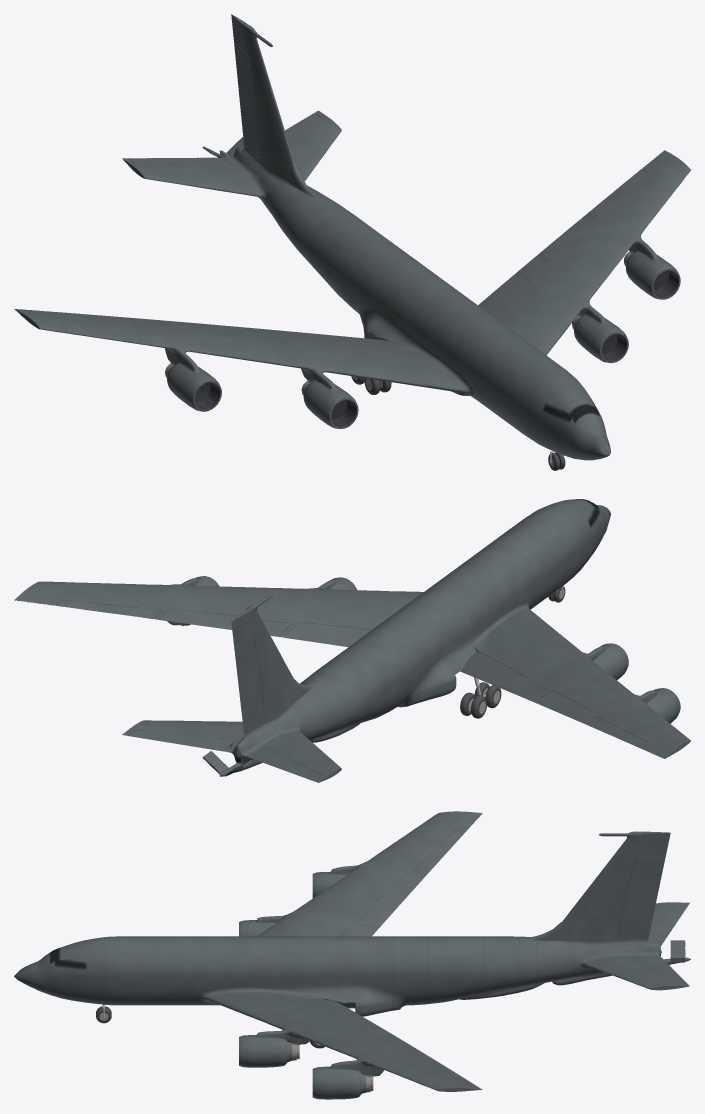
3 renders of one model, top to bottom at view 1: azimuth 30°, elevation 25°; view 2: azimuth 150°, elevation 25°; view 3: azimuth 270°, elevation 25°, orthographic. The views are drawn at different scales.
Parts seen in each view (by area): view 1: airframe, fsim:flaps (×2), fsim:rudder, fsim:elevator; view 2: airframe, fsim:flaps (×4), fsim:rudder, fsim:elevator (×2), fsim:aileron (×2), fsim:wheel:2:0.6225; view 3: airframe, fsim:rudder, fsim:flaps (×2), fsim:elevator (×2), fsim:aileron.
Boxes of the visible parts, bbox=[...] form: airframe: bbox=[14, 14, 690, 460]; fsim:flaps (×2): bbox=[478, 216, 594, 315]; fsim:rudder: bbox=[234, 42, 258, 158]; fsim:elevator: bbox=[128, 157, 235, 166]; airframe: bbox=[14, 499, 690, 782]; fsim:flaps (×4): bbox=[158, 609, 594, 723]; fsim:rudder: bbox=[234, 635, 264, 734]; fsim:elevator (×2): bbox=[128, 730, 321, 781]; fsim:aileron (×2): bbox=[56, 600, 646, 748]; fsim:wheel:2:0.6225: bbox=[460, 692, 487, 718]; airframe: bbox=[14, 811, 690, 1099]; fsim:rudder: bbox=[618, 855, 665, 940]; fsim:flaps (×2): bbox=[311, 872, 426, 1026]; fsim:elevator (×2): bbox=[637, 905, 687, 984]; fsim:aileron: bbox=[414, 829, 466, 872].
Size of the model in its own units: 39.9 by 12.78 by 41.24.
6 materials, 1 textured.
